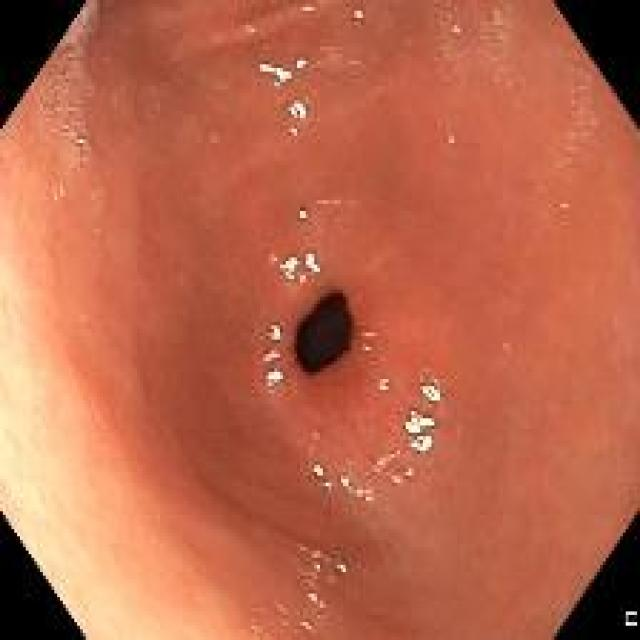bubbles: (489, 71, 515, 93), (440, 63, 463, 85), (38, 102, 64, 116), (50, 183, 66, 201), (325, 49, 343, 64), (440, 7, 455, 24), (556, 197, 568, 214), (74, 152, 88, 166), (92, 190, 106, 204), (346, 57, 360, 70), (574, 78, 586, 93), (570, 94, 582, 109), (149, 100, 161, 115), (442, 133, 455, 146), (49, 81, 63, 93), (485, 31, 497, 45), (63, 69, 73, 83), (277, 621, 289, 632), (46, 122, 57, 133), (61, 119, 70, 132), (64, 49, 73, 61), (66, 104, 75, 114), (292, 628, 302, 637)
contrast: (295, 290, 355, 376)
saturation: (1, 238, 82, 634), (81, 472, 195, 638)
specularity: (404, 412, 434, 452), (260, 62, 291, 84), (278, 253, 300, 280), (287, 96, 309, 121), (421, 381, 440, 403), (265, 369, 283, 390), (304, 253, 320, 273), (266, 323, 281, 341), (336, 561, 350, 577), (377, 378, 389, 393), (288, 123, 300, 135), (295, 57, 306, 70), (363, 342, 373, 356), (297, 209, 307, 222), (390, 473, 400, 486), (314, 464, 323, 478), (354, 8, 364, 20), (402, 469, 412, 481), (338, 476, 349, 486), (322, 482, 334, 491), (314, 561, 322, 573), (308, 593, 317, 600), (78, 136, 84, 145)
